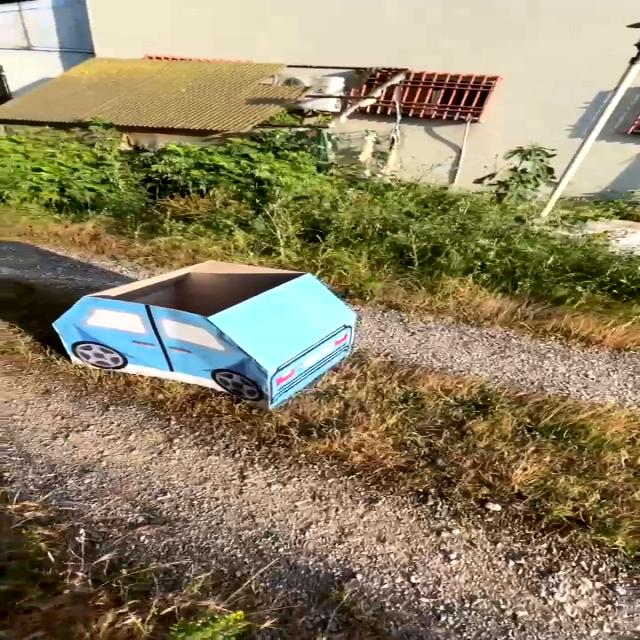blue_car: (0, 227, 405, 449)
